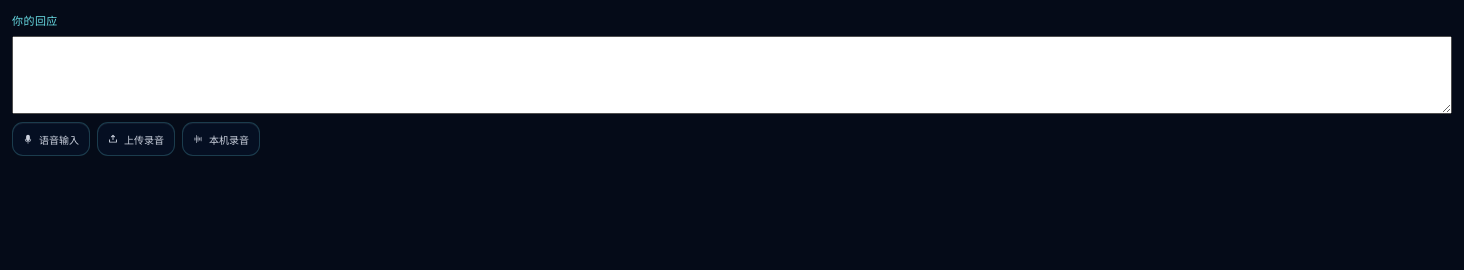
it: UtteranceInput recording lifecycle › shows browser Cantonese interim text and keeps the final transcript without file ASR
Click the button "语音输入": (51, 139) [12,122,90,156]
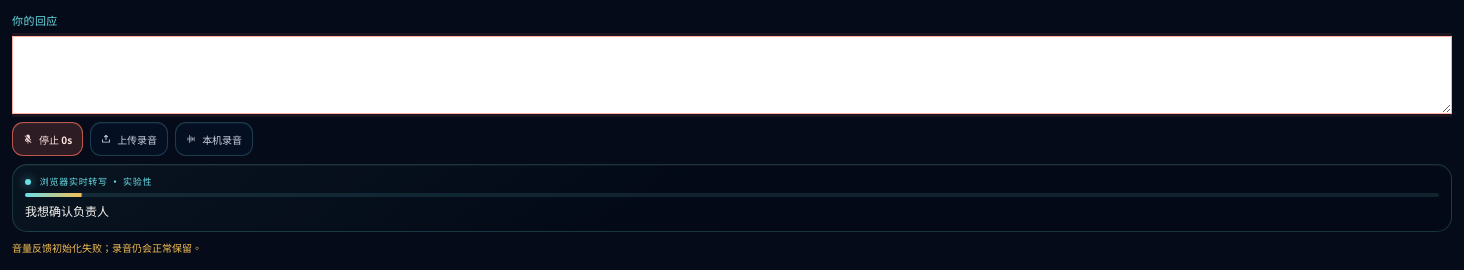
Now the text "我想确认负责人" is shown, box [25,202,109,219]
Now the text "浏览器实时转写 · 实验性" is shown, box [25,175,152,188]
Click the button "停止 0s": (48, 139) [12,122,83,156]
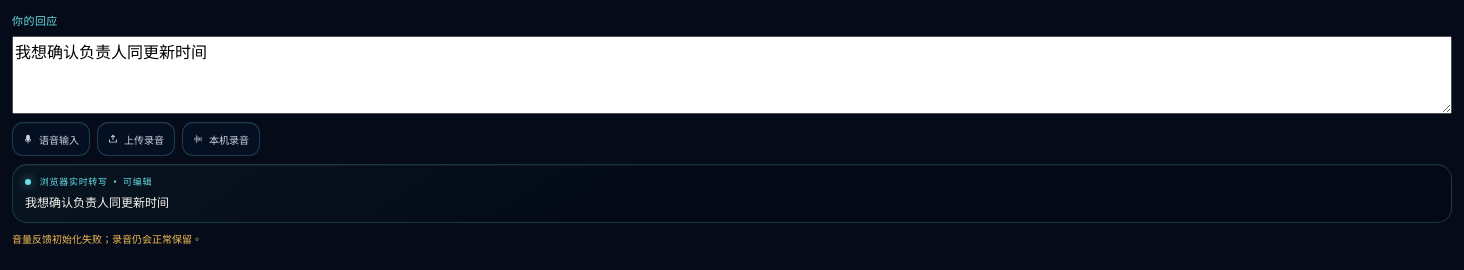
Now the text box showing "我想确认负责人同更新时间" is shown, box [12,36,1452,114]
